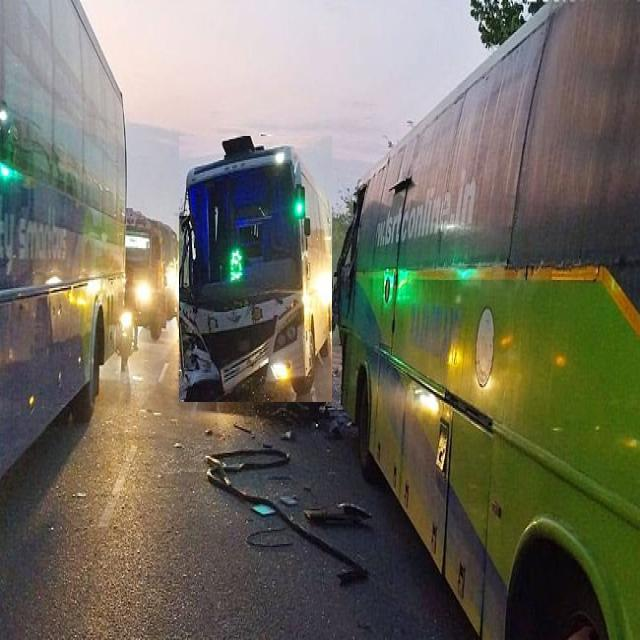accident: (179, 136, 332, 402)
bus: (339, 1, 640, 637)
